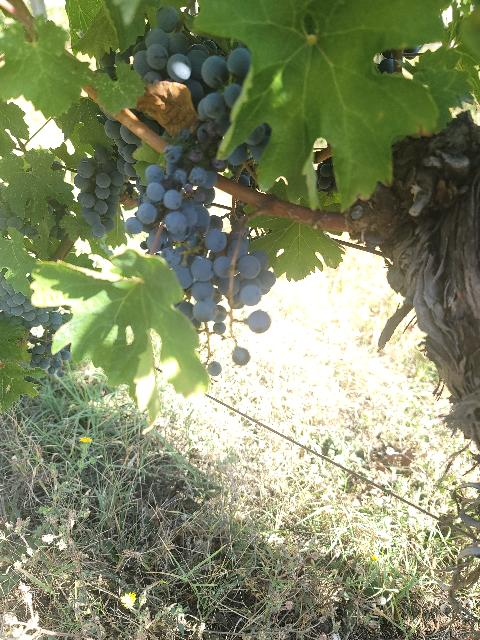grapes: (132, 6, 251, 105), (125, 145, 218, 268), (164, 226, 276, 322), (74, 148, 125, 239), (0, 272, 63, 330)
